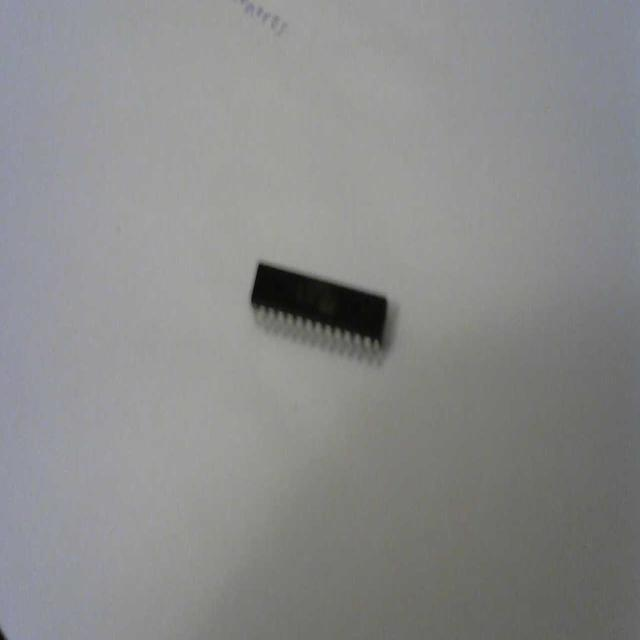atmega: (248, 255, 390, 365)
